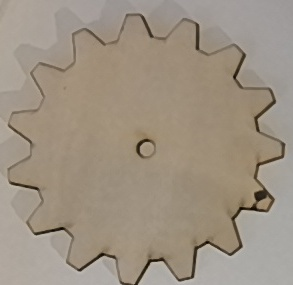Points: (250, 186, 267, 213)
